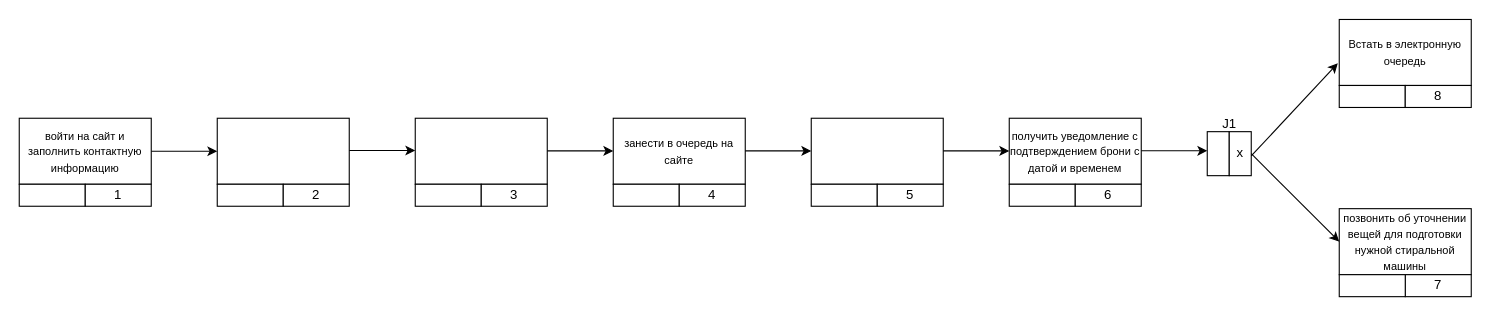
The diagram is 1491 pixels wide and 316 high, and some of its shapes have lost their labels. The box of each missing label's shape, as (x1, y1, x2, y2) in pixels:
высветить информацию о записи: (414, 117, 547, 184)
заполнить дату и временя: (216, 117, 349, 184)
получить информацию о новой записи: (810, 117, 943, 184)
